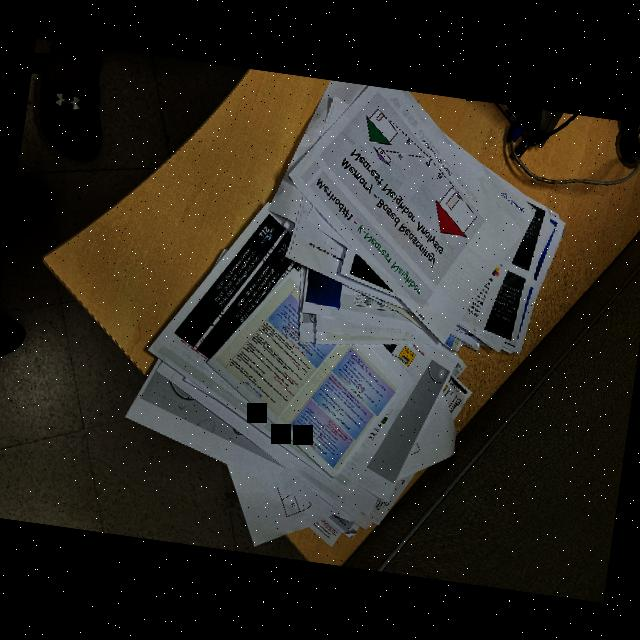reuseable_paper: (119, 61, 586, 564)
